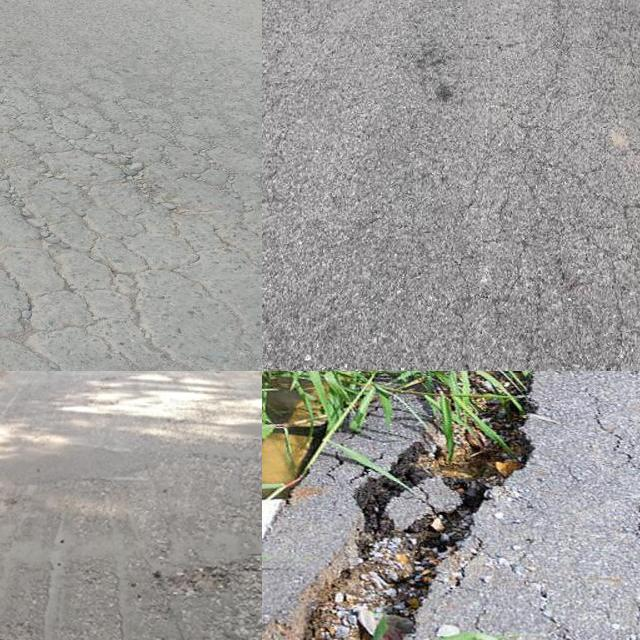Pinggir: (262, 371, 605, 640)
Retak Buaya: (0, 81, 262, 371), (488, 0, 640, 371)
